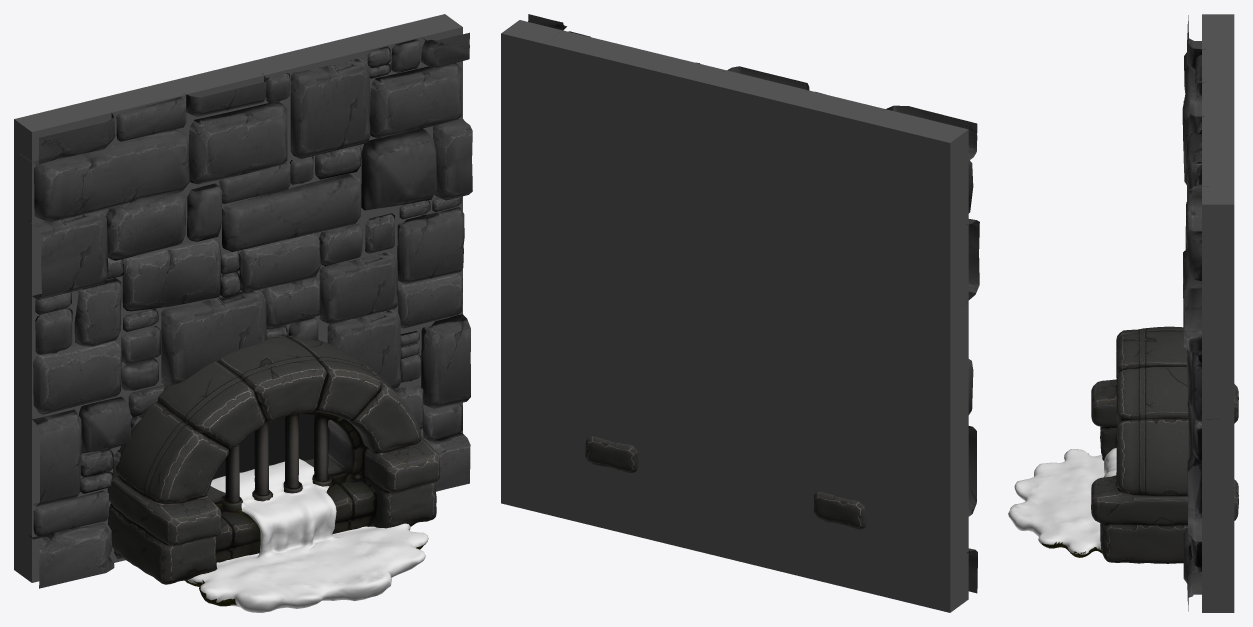
Rendered from Wall_Drain.fbx.
3 views of the same model, side by side, from view 1: azimuth 30°, elevation 25°; view 2: azimuth 150°, elevation 25°; view 3: azimuth 270°, elevation 25° (orthographic). The views are drawn at different scales.
Visible parts, largest first — view 1: Wall_Drain; view 2: Wall_Drain; view 3: Wall_Drain.
Part boxes in pixels (x1,y1,x2,y2): Wall_Drain: (14,14,472,612); Wall_Drain: (501,14,979,612); Wall_Drain: (1008,14,1238,612).
Size of the model in its own units: 302 by 302 by 154.
5 materials, 2 textured.
